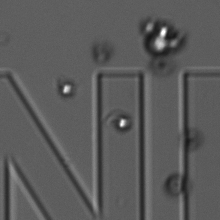Dead Cell: (149, 53, 175, 76), (180, 129, 201, 153), (164, 174, 184, 197), (94, 42, 112, 64)
Living Cell: (55, 79, 78, 100), (152, 21, 174, 41), (111, 112, 131, 133)
